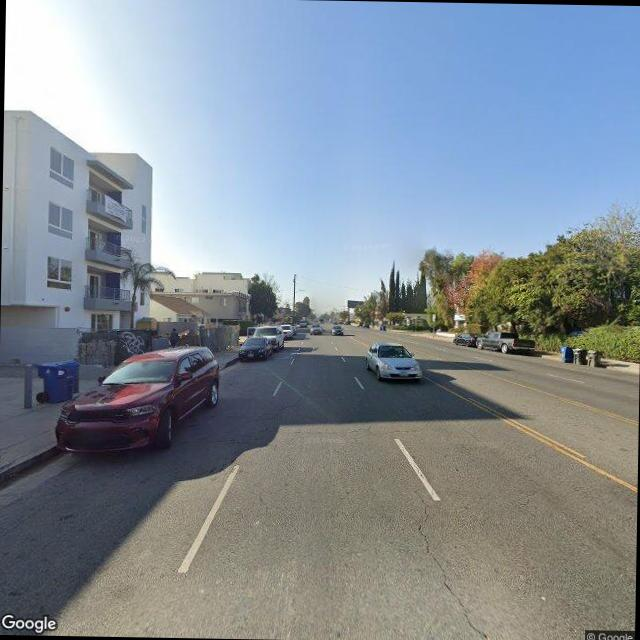crack: (405, 486, 512, 640)
